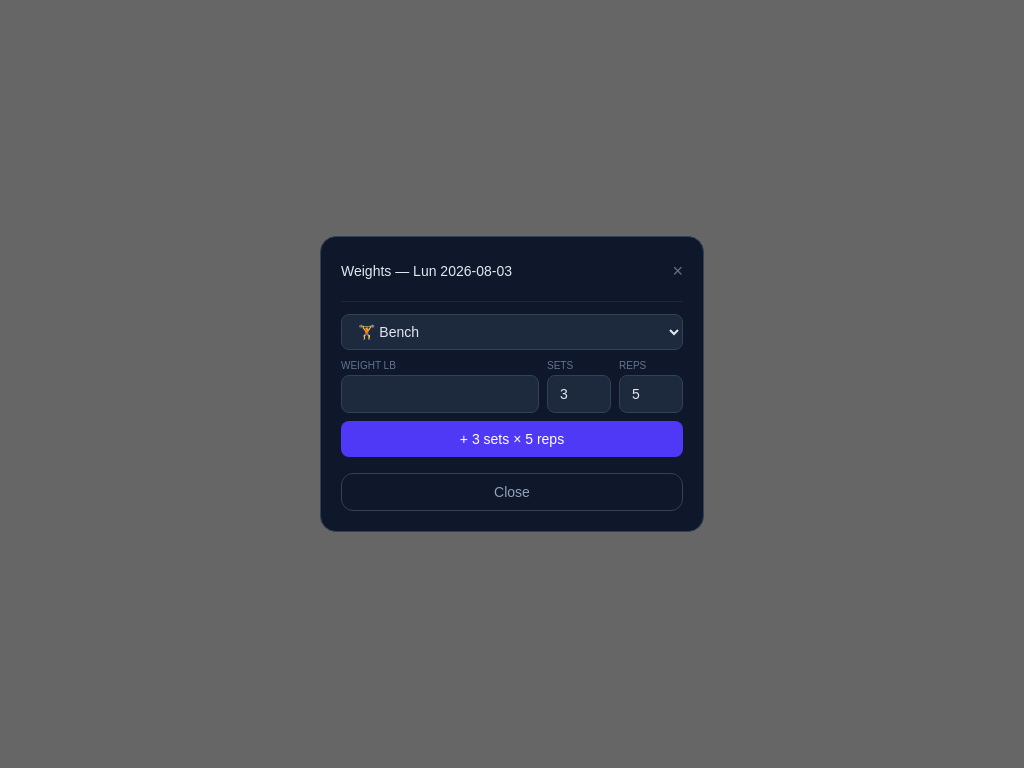
Test: si un set falla a medio camino se detiene y avisa
Type "150" into the number field labelled "Weight Lb" at (440, 394), box [341,375,539,413]
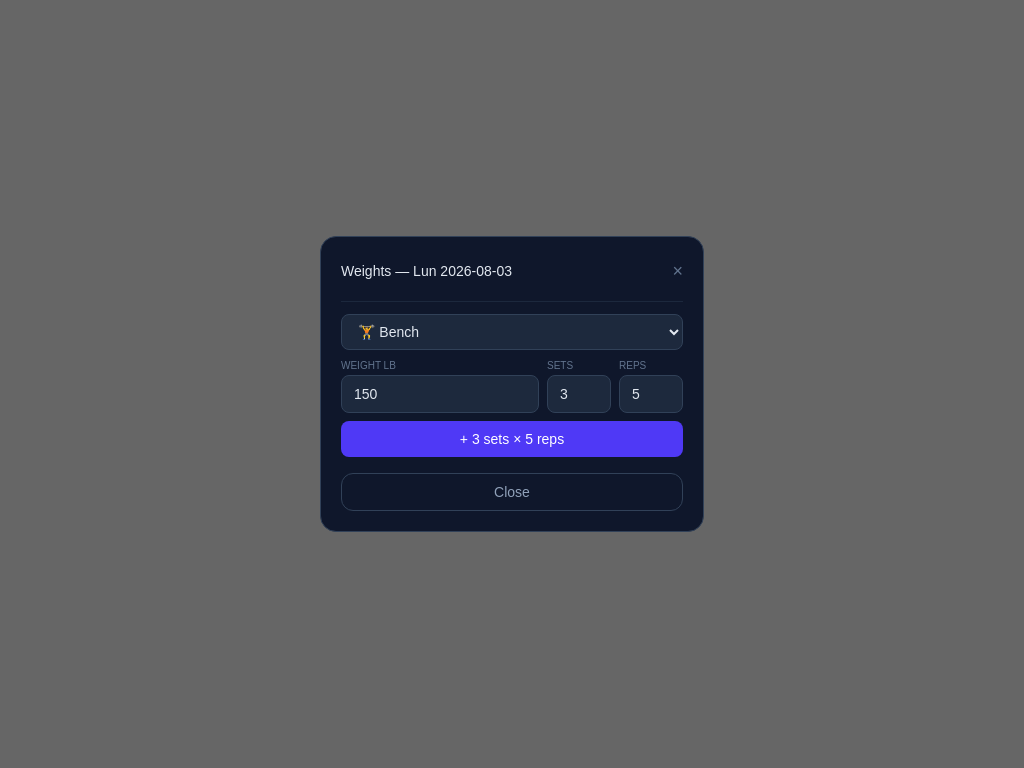
Click the button "+ 3 sets × 5 reps" at (512, 439), box [341,421,683,457]
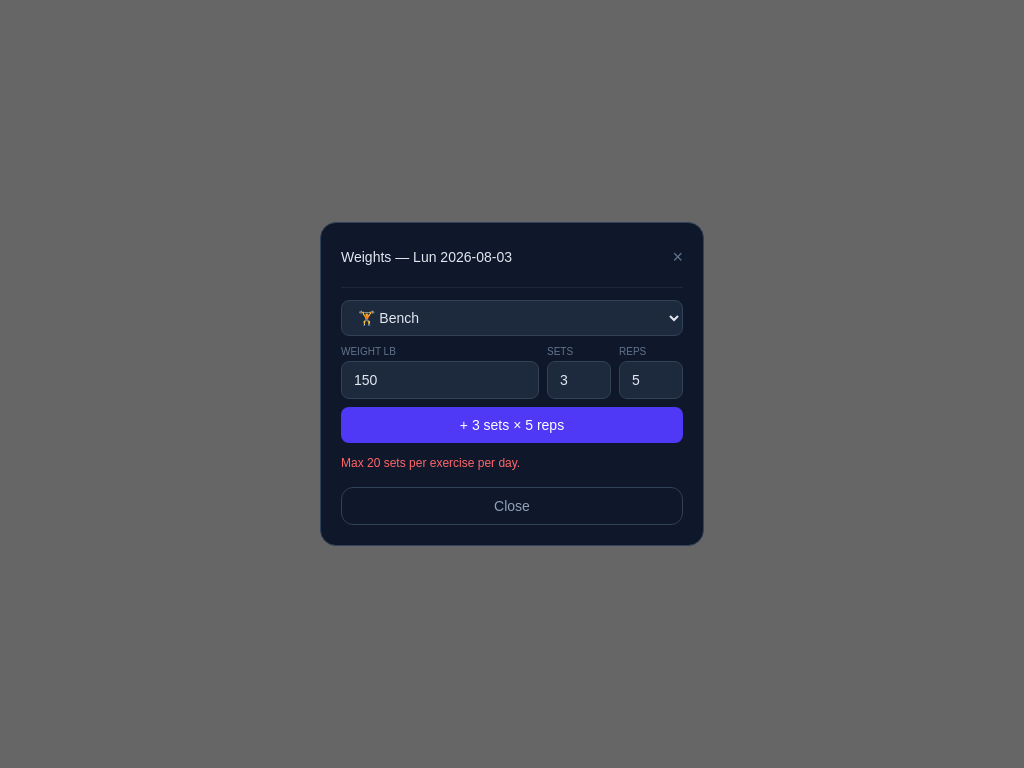
Result: the text "Max 20 sets per exercise per day." is shown at [341,456,520,470]
